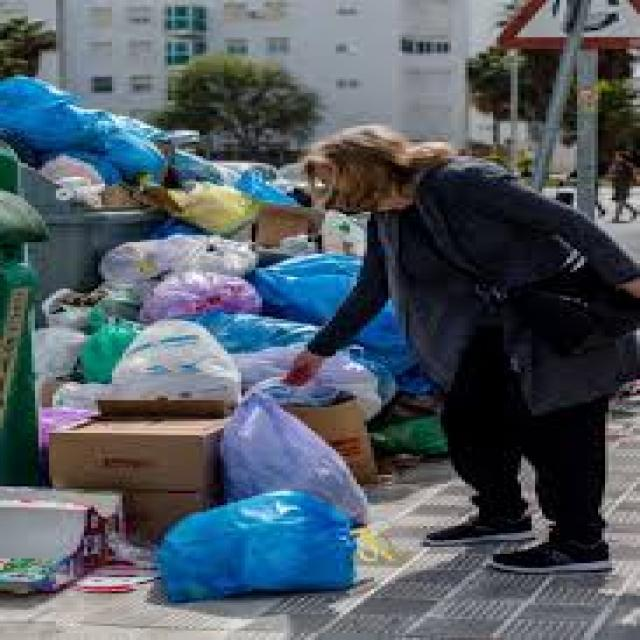garbage: (0, 228, 449, 616), (2, 75, 324, 252)
